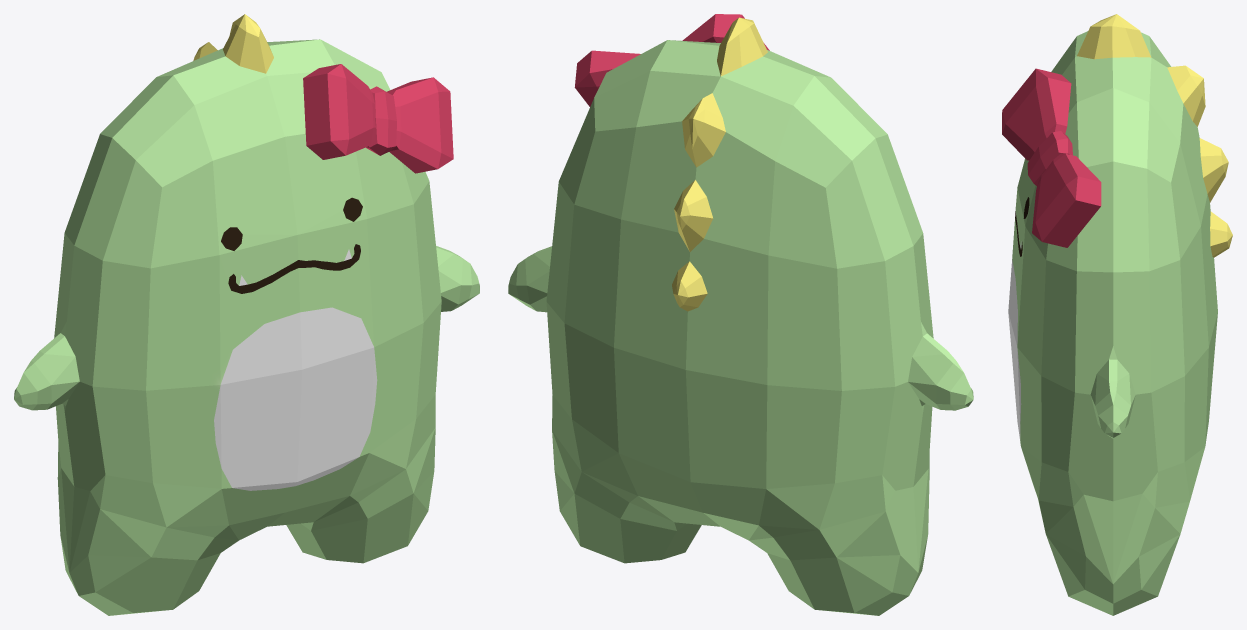
The model's file is 리본꽁룡.fbx.
3 renders of one model, left to right at view 1: azimuth 30°, elevation 25°; view 2: azimuth 150°, elevation 25°; view 3: azimuth 270°, elevation 25°, orthographic. The views are drawn at different scales.
Parts seen in each view (by area): view 1: Cube, Cube.001; view 2: Cube, Cube.001; view 3: Cube, Cube.001.
Part boxes in pixels (bbox=[...]): Cube: bbox=[14, 14, 479, 615]; Cube.001: bbox=[303, 64, 453, 173]; Cube: bbox=[508, 17, 973, 615]; Cube.001: bbox=[574, 14, 769, 106]; Cube: bbox=[1008, 14, 1232, 615]; Cube.001: bbox=[1002, 68, 1101, 247].
Size of the model in its own units: 338 by 393 by 153.
Materials: 2 (1 with a texture image).
